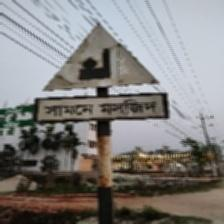Mosque in front: (38, 23, 167, 126)
